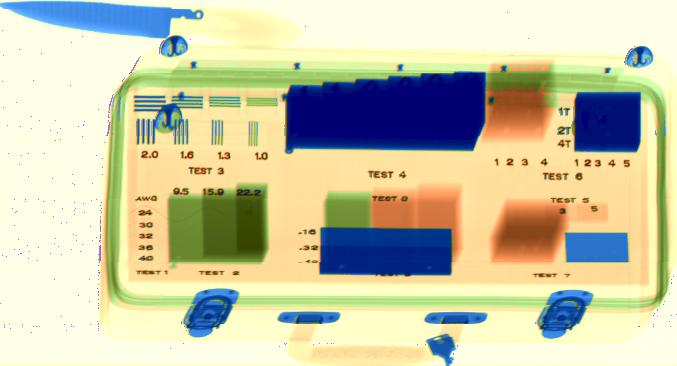Knife: (1, 1, 303, 46)
